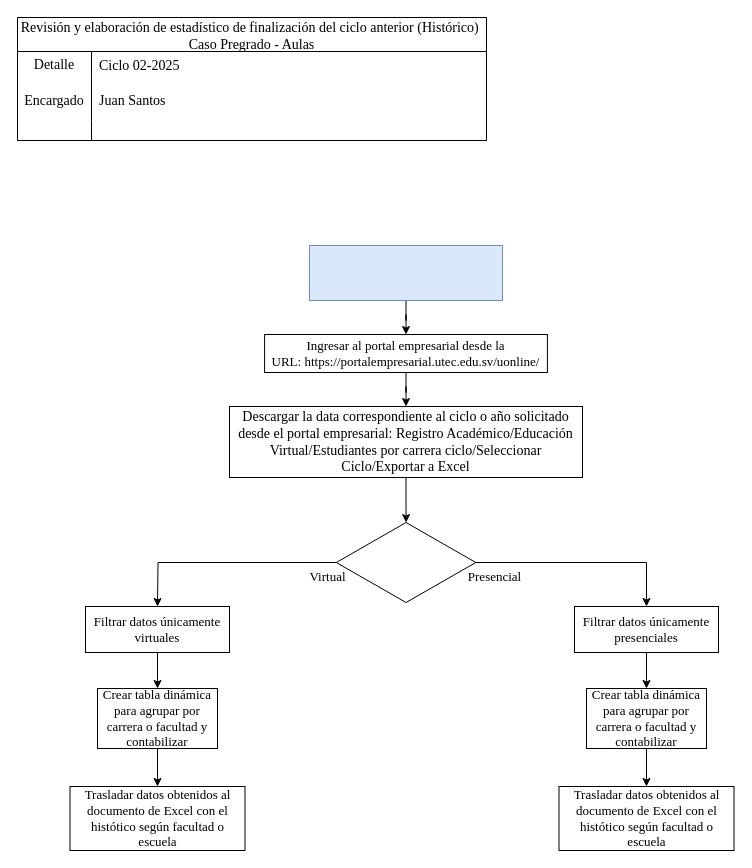
Image size: 752x868. Some labels were removed from this diagram. The shapes that lost their labels are listed below. From the top down, each one's centre as x and y in pixels, then its label:
At (x=405, y=272): "Revisión y elaboración de estadístico de finalización del ciclo anterior".
At (x=405, y=562): "¿Presencial o virtual?".
